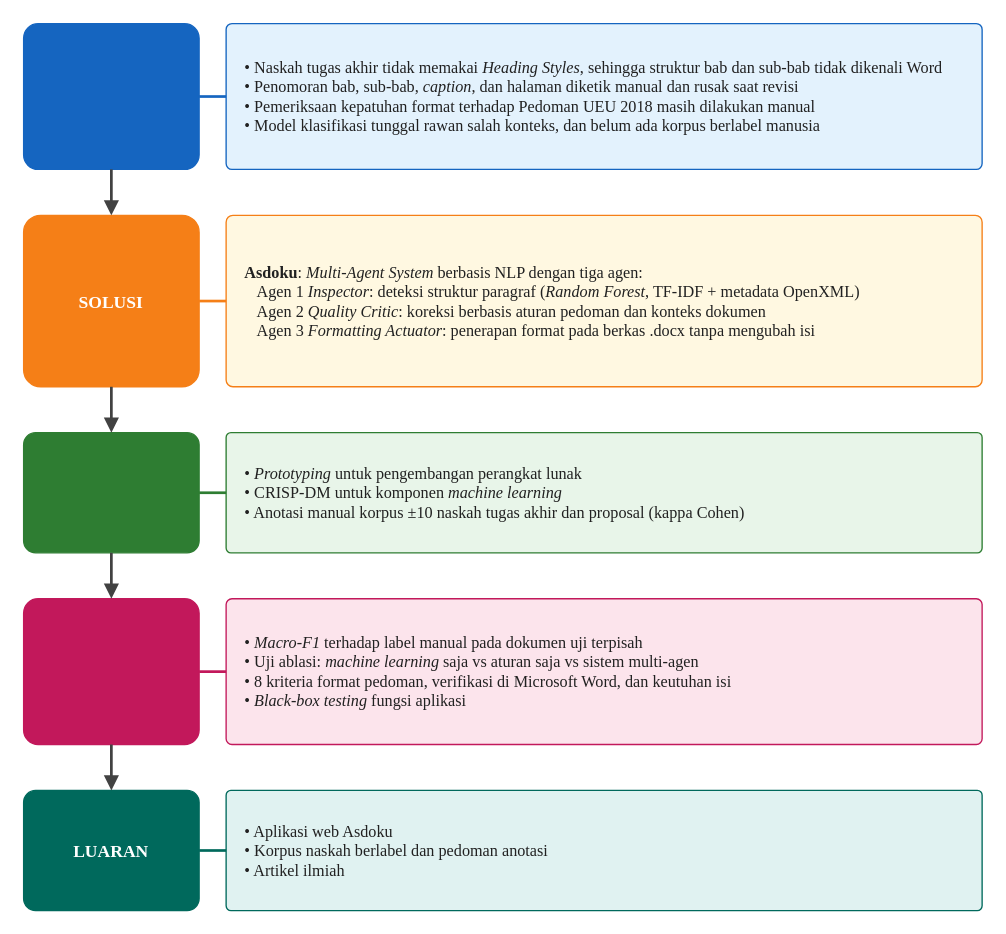
Some shapes in this 1006 by 934 pixel diagram are drawn without their labels. The box of each missing label's shape, as (x1, y1, x2, y2) in pixels:
MASALAH: (22, 22, 199, 169)
METODE: (22, 431, 199, 553)
PENGUJIAN: (22, 597, 199, 745)
